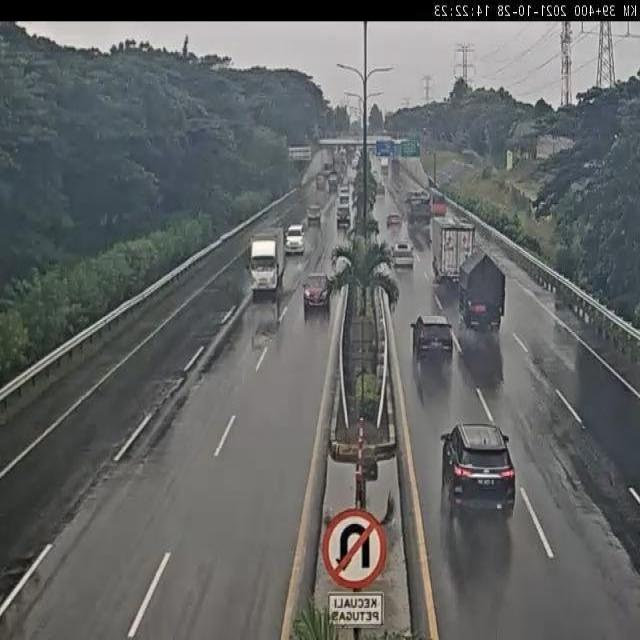Car: (439, 422, 514, 530), (411, 314, 454, 367), (301, 274, 330, 323), (286, 223, 308, 262), (392, 243, 416, 272), (334, 209, 352, 232), (306, 205, 322, 227), (385, 214, 404, 230)
Cycle: (339, 186, 350, 206)
Truck: (458, 249, 504, 335), (430, 214, 479, 281), (246, 228, 285, 299), (405, 192, 450, 238)
